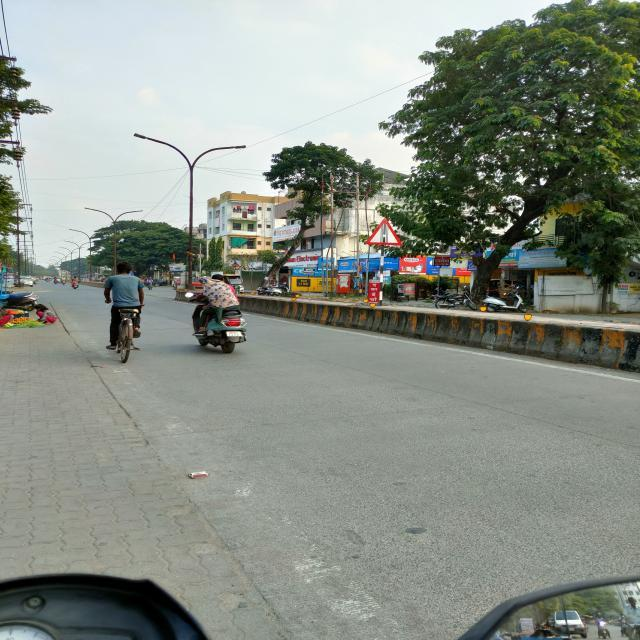gap in median: (365, 217, 403, 246)
